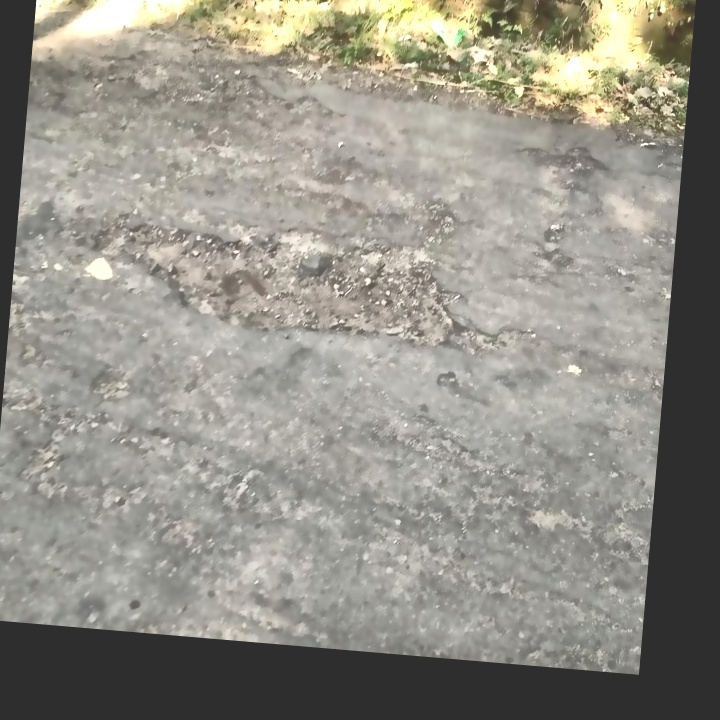pothole: (85, 208, 471, 357), (518, 140, 609, 174)
